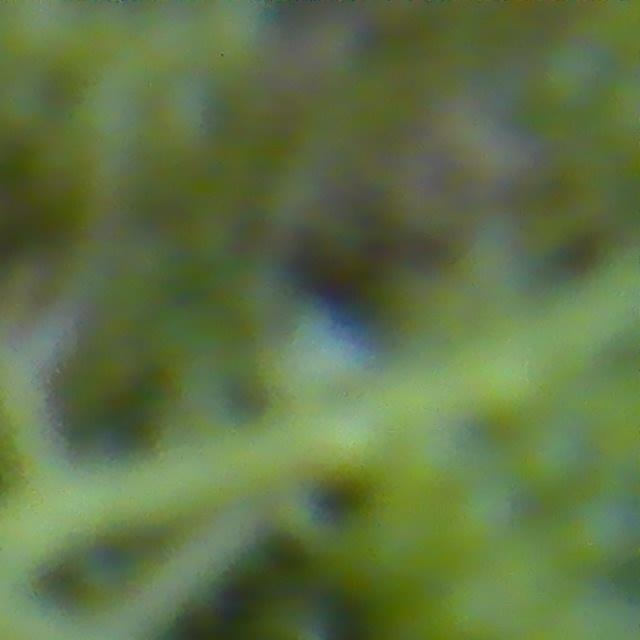SeaGrape: (558, 488, 639, 576), (510, 416, 589, 498)
